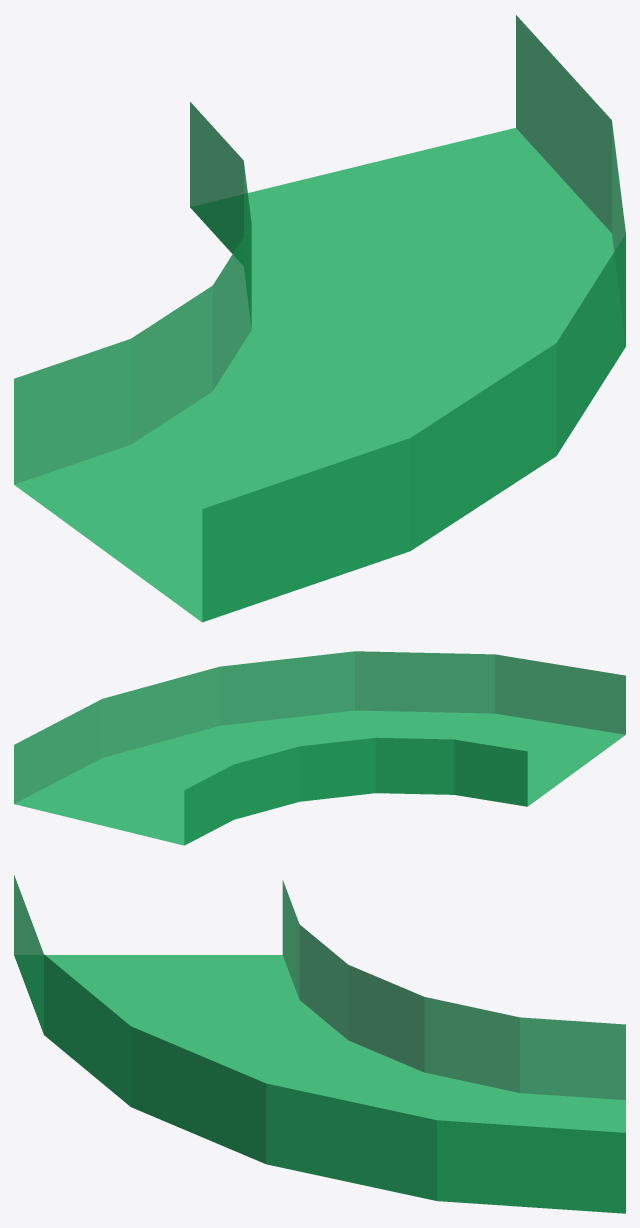
The model's file is Walkway_Corner_COL.fbx.
The picture shows the model from 3 angles, top to bottom: view 1: azimuth 30°, elevation 25°; view 2: azimuth 150°, elevation 25°; view 3: azimuth 270°, elevation 25°; orthographic projection. The views are drawn at different scales.
Visible parts, largest first — view 1: Walkway_Corner_COL1; view 2: Walkway_Corner_COL1; view 3: Walkway_Corner_COL1.
Part boxes in pixels (x1,y1,x2,y2): Walkway_Corner_COL1: [14, 15, 625, 622]; Walkway_Corner_COL1: [14, 651, 625, 845]; Walkway_Corner_COL1: [14, 875, 625, 1213].
Bounding box in the file's own units: 10.26 × 1.5 × 10.26.
